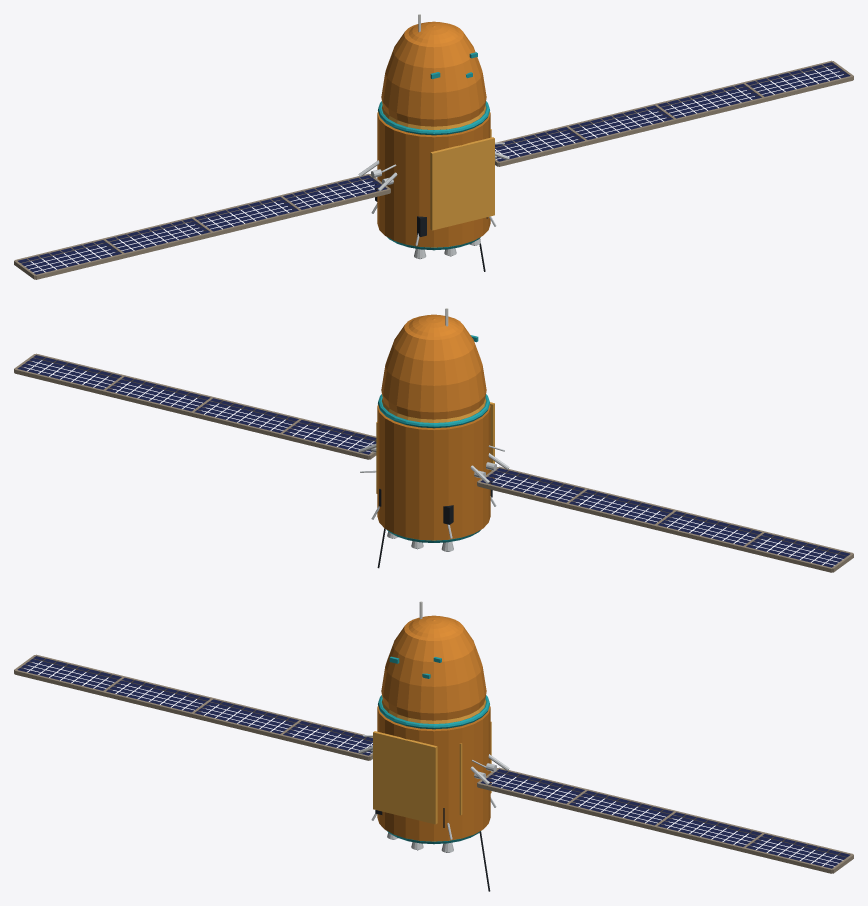
Rendered from GAGANYAAN.glb.
3 renders of one model, top to bottom at view 1: azimuth 30°, elevation 25°; view 2: azimuth 150°, elevation 25°; view 3: azimuth 330°, elevation 25°, orthographic.
Visible parts, largest first — view 1: GAGANYAAN_CONSOLIDATED_SOLAR_CELLS, GAGANYAAN_CREW_MODULE, GAGANYAAN_SERVICE_MODULE_BODY, GAGANYAAN_CONSOLIDATED_SOLAR_FRAMES, GAGANYAAN_SERVICE_MODULE_EXTERNAL_PANELS, GAGANYAAN_CREW_MODULE_ROUNDED_TOP, GAGANYAAN_CREW_SERVICE_INTERFACE_RING; view 2: GAGANYAAN_CONSOLIDATED_SOLAR_CELLS, GAGANYAAN_SERVICE_MODULE_BODY, GAGANYAAN_CREW_MODULE, GAGANYAAN_CONSOLIDATED_SOLAR_FRAMES, GAGANYAAN_CREW_MODULE_ROUNDED_TOP, GAGANYAAN_CREW_SERVICE_INTERFACE_RING; view 3: GAGANYAAN_CONSOLIDATED_SOLAR_CELLS, GAGANYAAN_CREW_MODULE, GAGANYAAN_SERVICE_MODULE_BODY, GAGANYAAN_CONSOLIDATED_SOLAR_FRAMES, GAGANYAAN_SERVICE_MODULE_EXTERNAL_PANELS, GAGANYAAN_CREW_MODULE_ROUNDED_TOP, GAGANYAAN_CREW_SERVICE_INTERFACE_RING.
Boxes of the visible parts, <box> form: GAGANYAAN_CONSOLIDATED_SOLAR_CELLS: <box>18,62,850,274</box>; GAGANYAAN_CREW_MODULE: <box>381,23,486,126</box>; GAGANYAAN_SERVICE_MODULE_BODY: <box>377,111,490,247</box>; GAGANYAAN_CONSOLIDATED_SOLAR_FRAMES: <box>14,60,853,279</box>; GAGANYAAN_SERVICE_MODULE_EXTERNAL_PANELS: <box>430,129,494,230</box>; GAGANYAAN_CREW_MODULE_ROUNDED_TOP: <box>408,21,459,43</box>; GAGANYAAN_CREW_SERVICE_INTERFACE_RING: <box>378,101,489,135</box>; GAGANYAAN_CONSOLIDATED_SOLAR_CELLS: <box>17,355,850,567</box>; GAGANYAAN_SERVICE_MODULE_BODY: <box>377,404,490,540</box>; GAGANYAAN_CREW_MODULE: <box>381,316,486,419</box>; GAGANYAAN_CONSOLIDATED_SOLAR_FRAMES: <box>14,353,853,572</box>; GAGANYAAN_CREW_MODULE_ROUNDED_TOP: <box>408,314,459,336</box>; GAGANYAAN_CREW_SERVICE_INTERFACE_RING: <box>378,394,489,428</box>; GAGANYAAN_CONSOLIDATED_SOLAR_CELLS: <box>17,656,849,868</box>; GAGANYAAN_CREW_MODULE: <box>381,617,486,720</box>; GAGANYAAN_SERVICE_MODULE_BODY: <box>377,705,490,841</box>; GAGANYAAN_CONSOLIDATED_SOLAR_FRAMES: <box>14,654,853,873</box>; GAGANYAAN_SERVICE_MODULE_EXTERNAL_PANELS: <box>373,721,491,824</box>; GAGANYAAN_CREW_MODULE_ROUNDED_TOP: <box>408,615,459,637</box>; GAGANYAAN_CREW_SERVICE_INTERFACE_RING: <box>378,695,489,729</box>.
Size of the model in its own units: 12.03 by 3.85 by 1.47.
